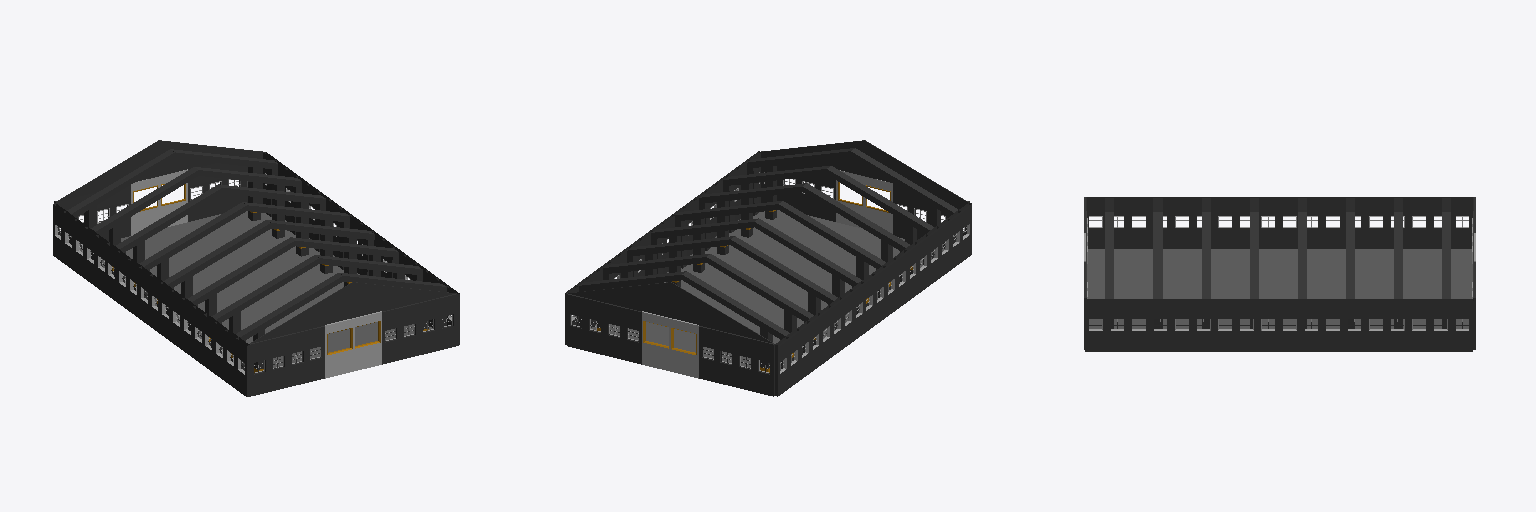
File: environment2.obj
The picture shows the model from 3 angles: view 1: azimuth 30°, elevation 25°; view 2: azimuth 150°, elevation 25°; view 3: azimuth 270°, elevation 25°; orthographic projection.
Visible parts, largest first — view 1: Plane.005; view 2: Plane.005; view 3: Plane.005.
Part boxes in pixels (x1,y1,x2,y2): Plane.005: (53,140,459,396); Plane.005: (565,140,971,396); Plane.005: (1084,197,1475,351).
Size of the model in its own units: 36.75 by 14.72 by 58.35.